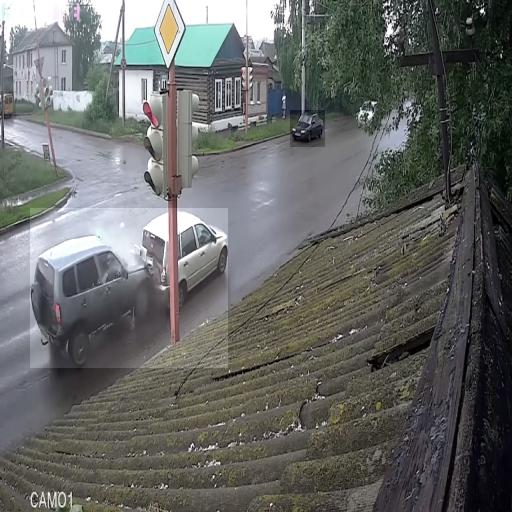小汽车: (290, 110, 325, 147), (0, 91, 16, 119)
小汽车撞小汽车: (30, 208, 228, 368)
